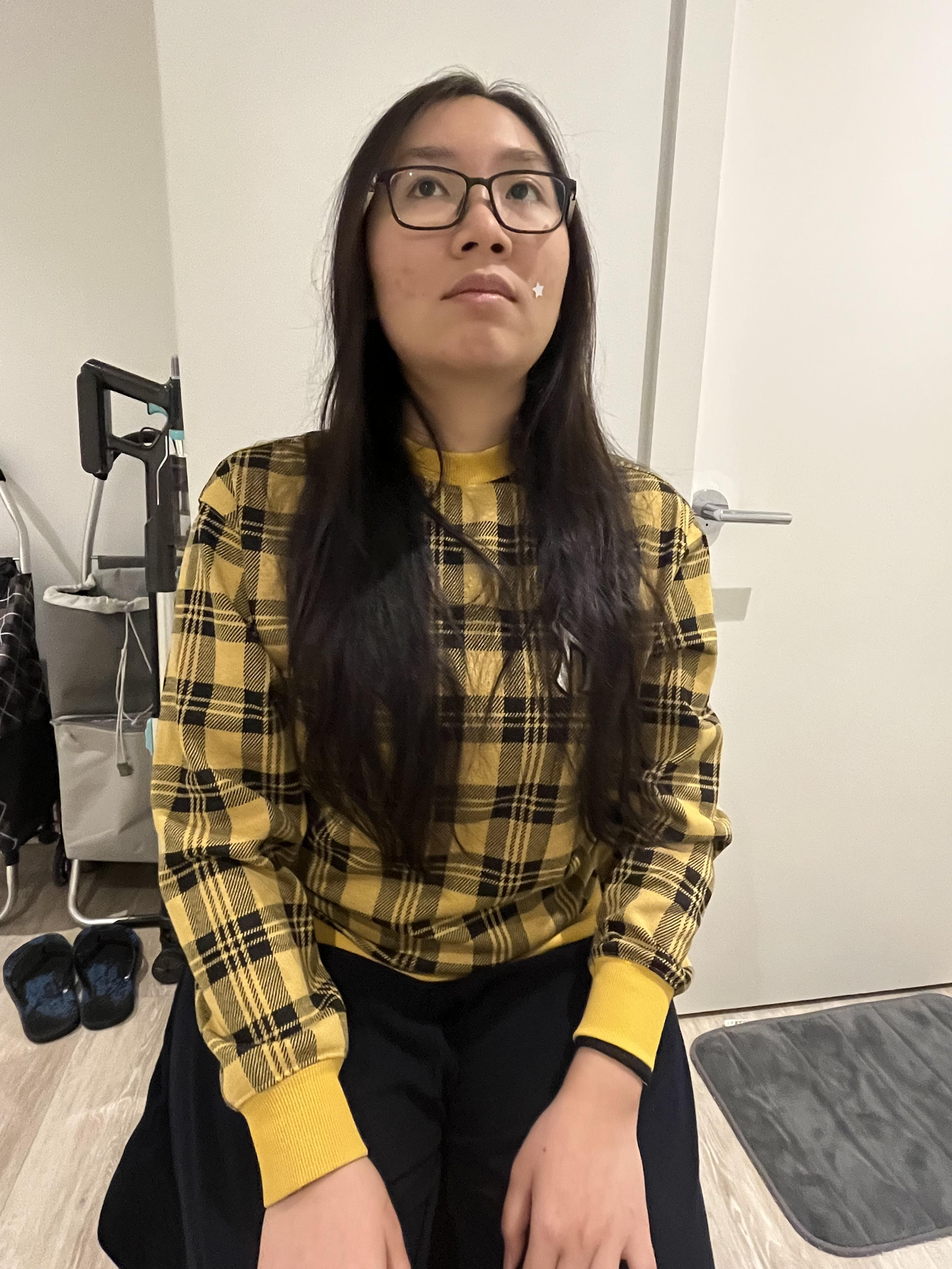GoodPosture: (95, 69, 730, 1269)
